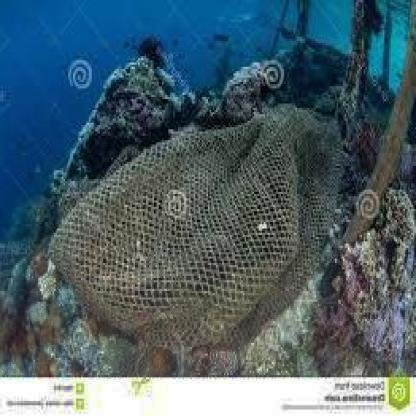net: (56, 110, 342, 338)
